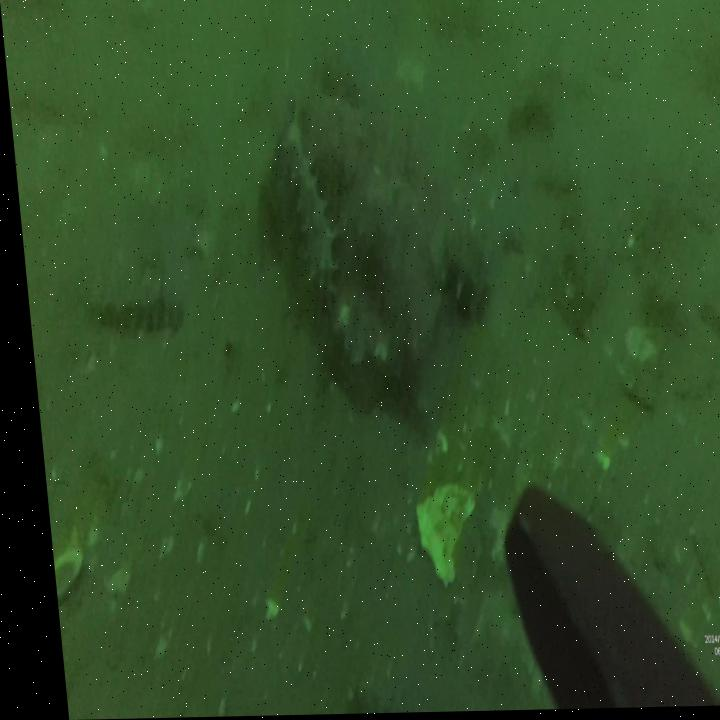holothurian: (273, 120, 338, 313), (87, 291, 179, 338)
